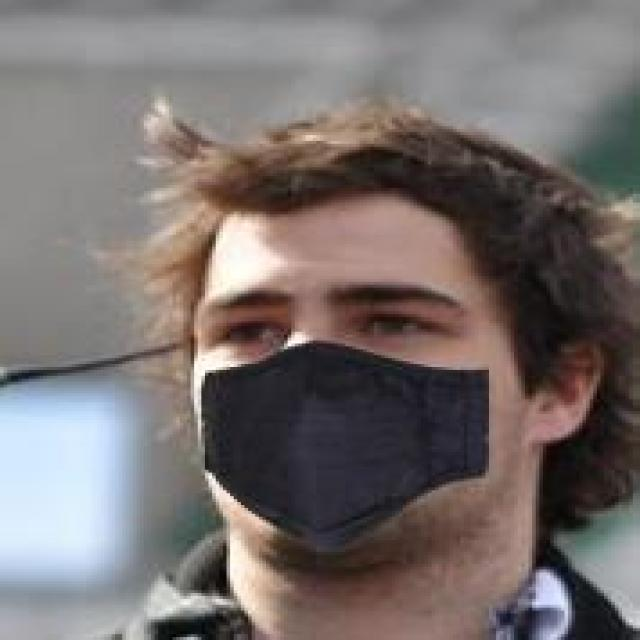mask: (169, 82, 618, 581)
